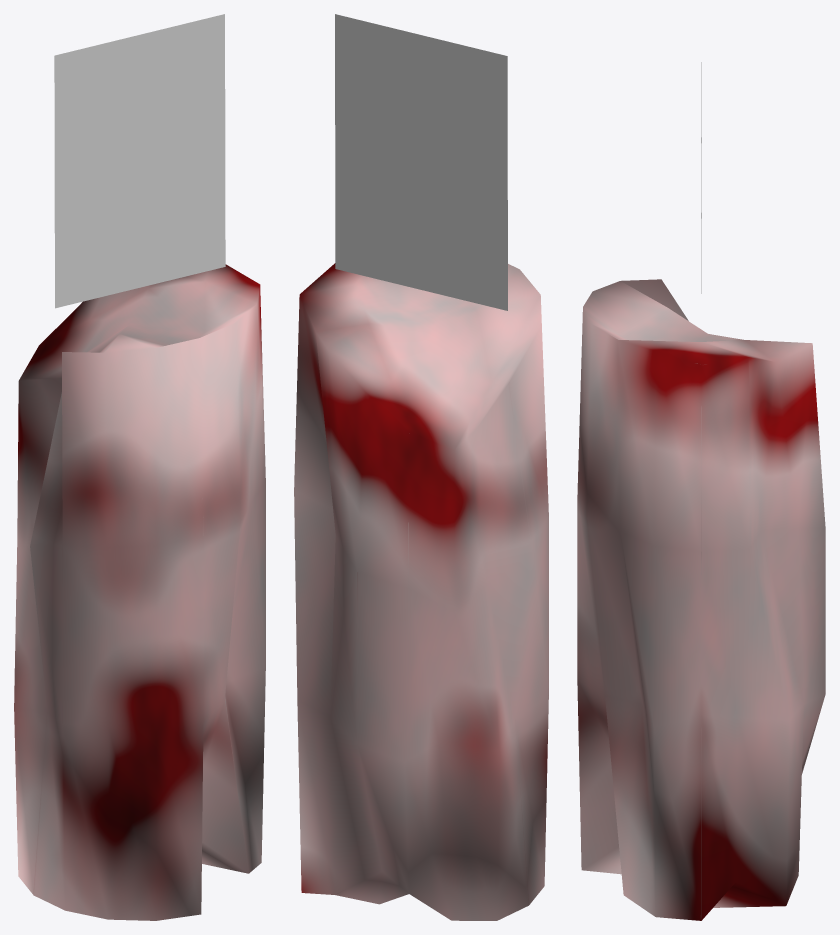
File: candle.fbx
The picture shows the model from 3 angles, left to right: view 1: azimuth 30°, elevation 25°; view 2: azimuth 150°, elevation 25°; view 3: azimuth 270°, elevation 25°; orthographic projection. The views are drawn at different scales.
Parts seen in each view (by area): view 1: Circle.002, Plane; view 2: Circle.002, Plane; view 3: Circle.002.
Boxes of the visible parts, bbox=[...] form: Circle.002: bbox=[14, 264, 265, 920]; Plane: bbox=[54, 14, 225, 308]; Circle.002: bbox=[294, 263, 548, 920]; Plane: bbox=[335, 14, 507, 310]; Circle.002: bbox=[577, 279, 825, 920].
Bounding box in the file's own units: 0.1401 × 0.5109 × 0.1401.
2 materials, 1 textured.
